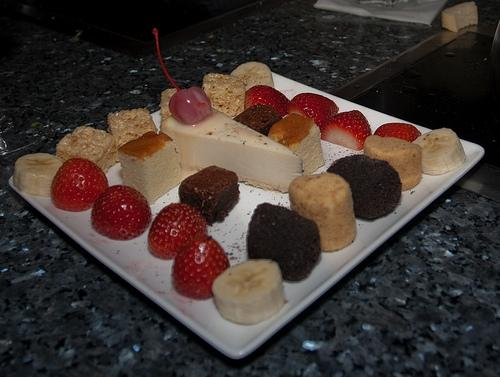banana: (212, 259, 288, 325), (412, 128, 466, 176), (13, 153, 63, 197), (230, 61, 274, 92)
cherry: (152, 28, 212, 125)
strawberry: (171, 234, 231, 300), (148, 202, 208, 260), (91, 184, 152, 241), (51, 157, 109, 212), (320, 110, 372, 151), (288, 92, 338, 132), (244, 84, 290, 118), (374, 122, 422, 142)
